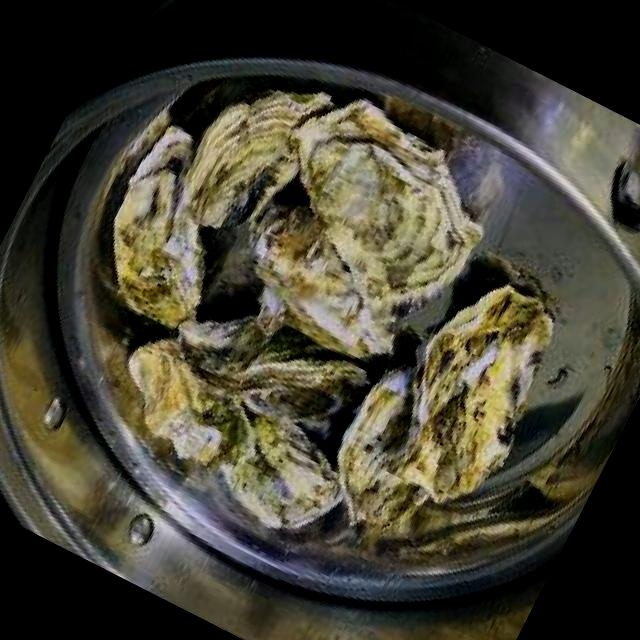Oyster-Closed: (298, 100, 486, 308), (406, 288, 556, 498), (254, 204, 396, 360), (186, 93, 332, 229), (114, 126, 202, 330), (219, 401, 345, 531), (128, 338, 254, 466), (336, 368, 432, 530), (180, 318, 364, 398)
